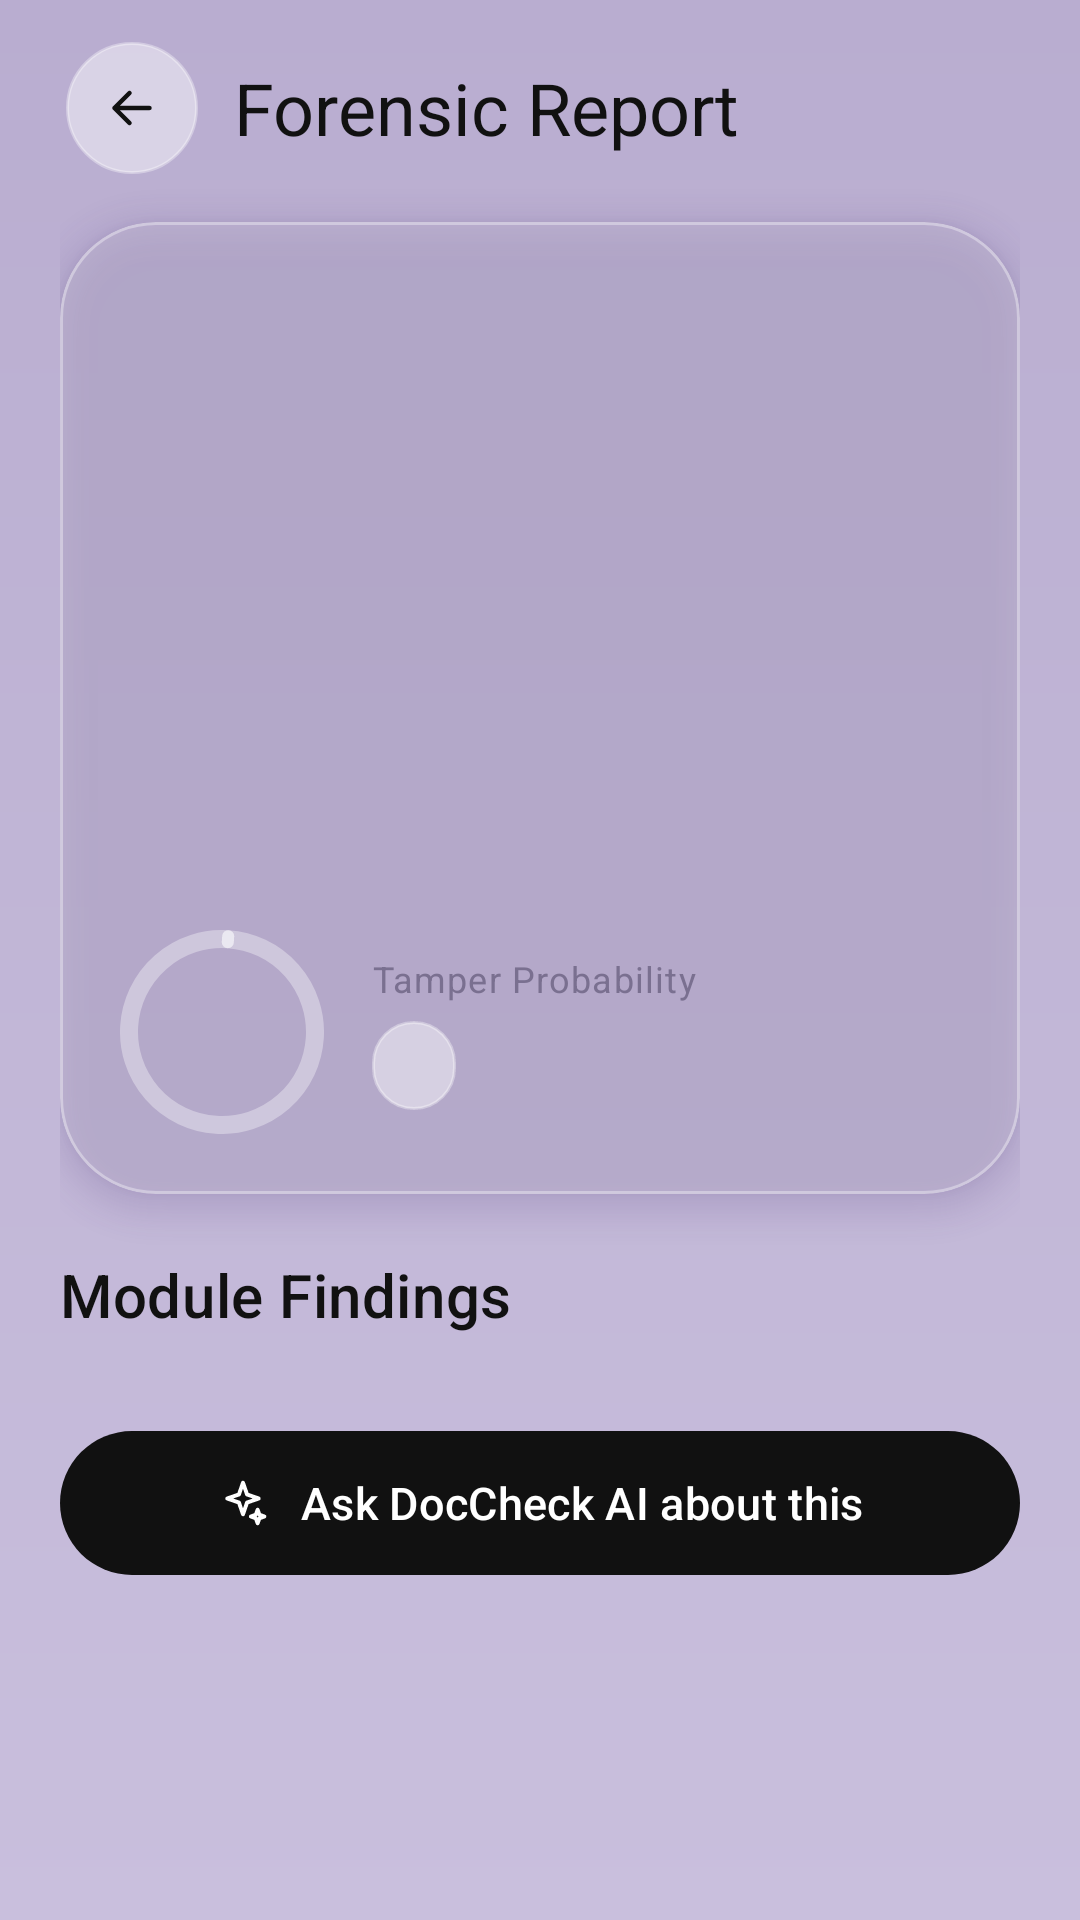

Icon bounding boxes for this 1080px x 1920px phone screenshot, format (x1, y1, x2, y2):
arrow back: (112, 90, 152, 126)
